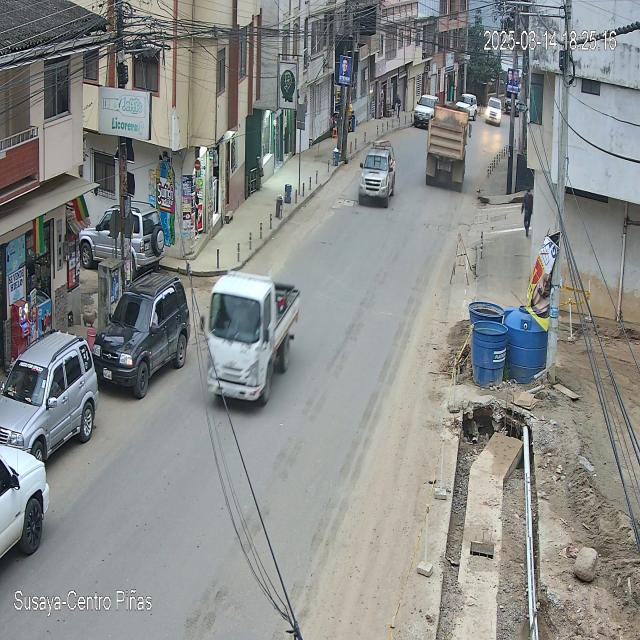CMT: (356, 142, 398, 210)
SUV: (0, 333, 98, 463), (97, 273, 191, 399), (79, 203, 166, 274)
TRUCK: (207, 272, 301, 406), (426, 102, 472, 192)
